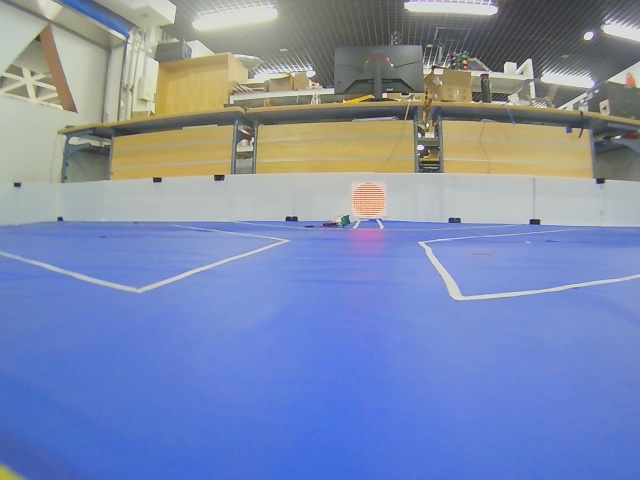red: (351, 182, 386, 218)
